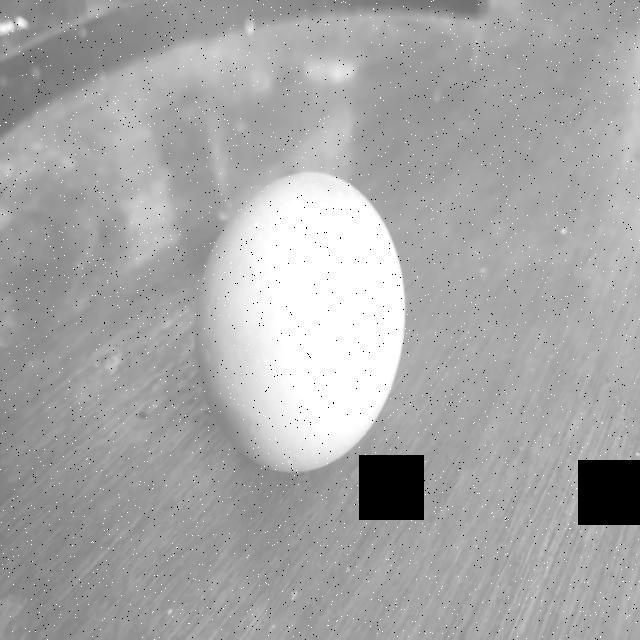egg: (190, 165, 408, 475)
